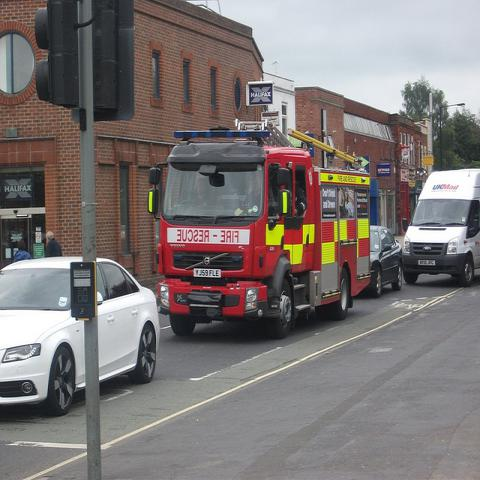car: (0, 256, 161, 415), (362, 226, 403, 298)
truck: (149, 120, 373, 335), (403, 167, 479, 285)
